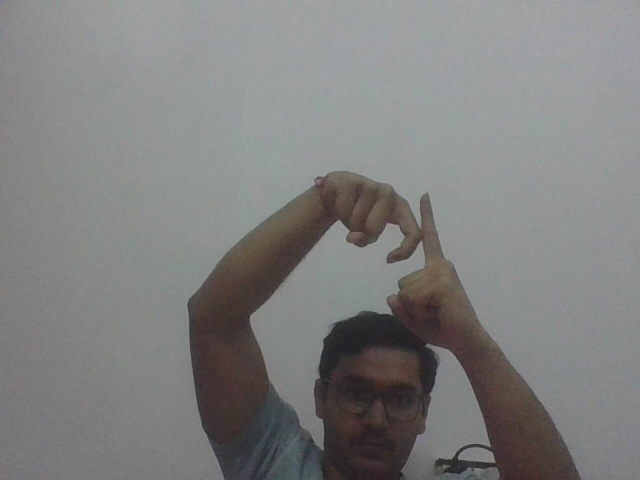K: (317, 167, 484, 342)
